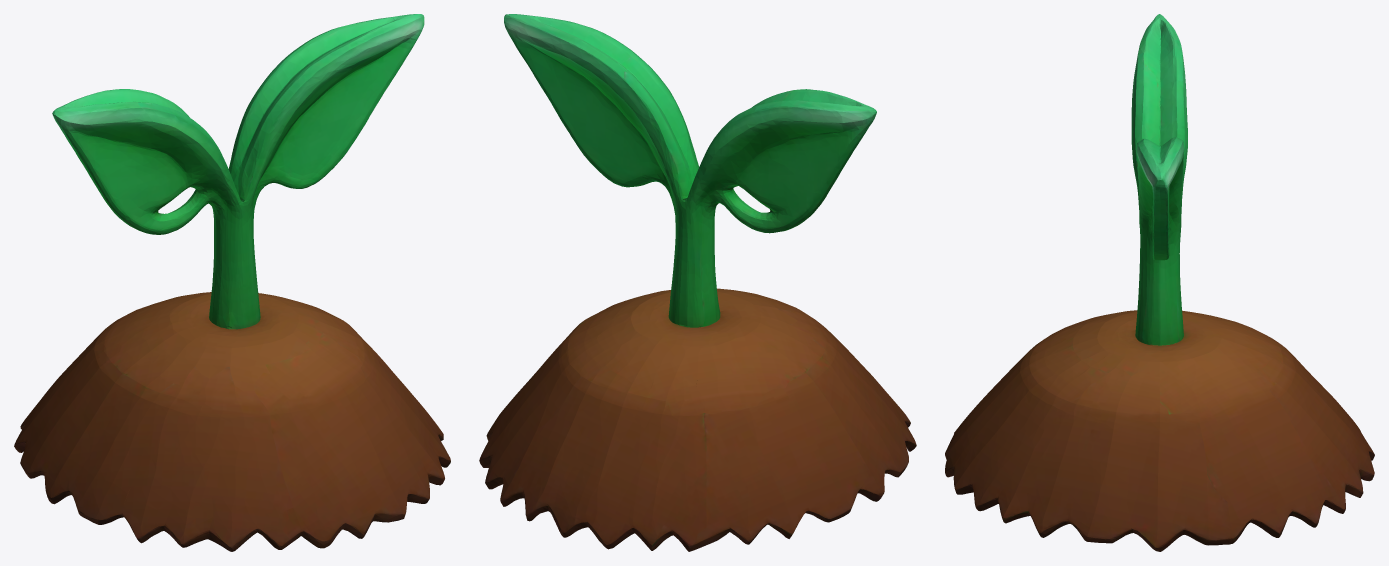
The model's file is familiarity_tree-1copy.glb.
The picture shows the model from 3 angles, left to right: view 1: azimuth 30°, elevation 25°; view 2: azimuth 150°, elevation 25°; view 3: azimuth 270°, elevation 25°; orthographic projection. The views are drawn at different scales.
Visible parts, largest first — view 1: world; view 2: world; view 3: world.
Boxes of the visible parts, x1=… form: world: x1=14, y1=14, x2=450, y2=551; world: x1=479, y1=14, x2=916, y2=551; world: x1=945, y1=14, x2=1374, y2=551.
Bounding box in the file's own units: 0.9502 × 0.9764 × 0.9927.
1 material, 1 textured.
